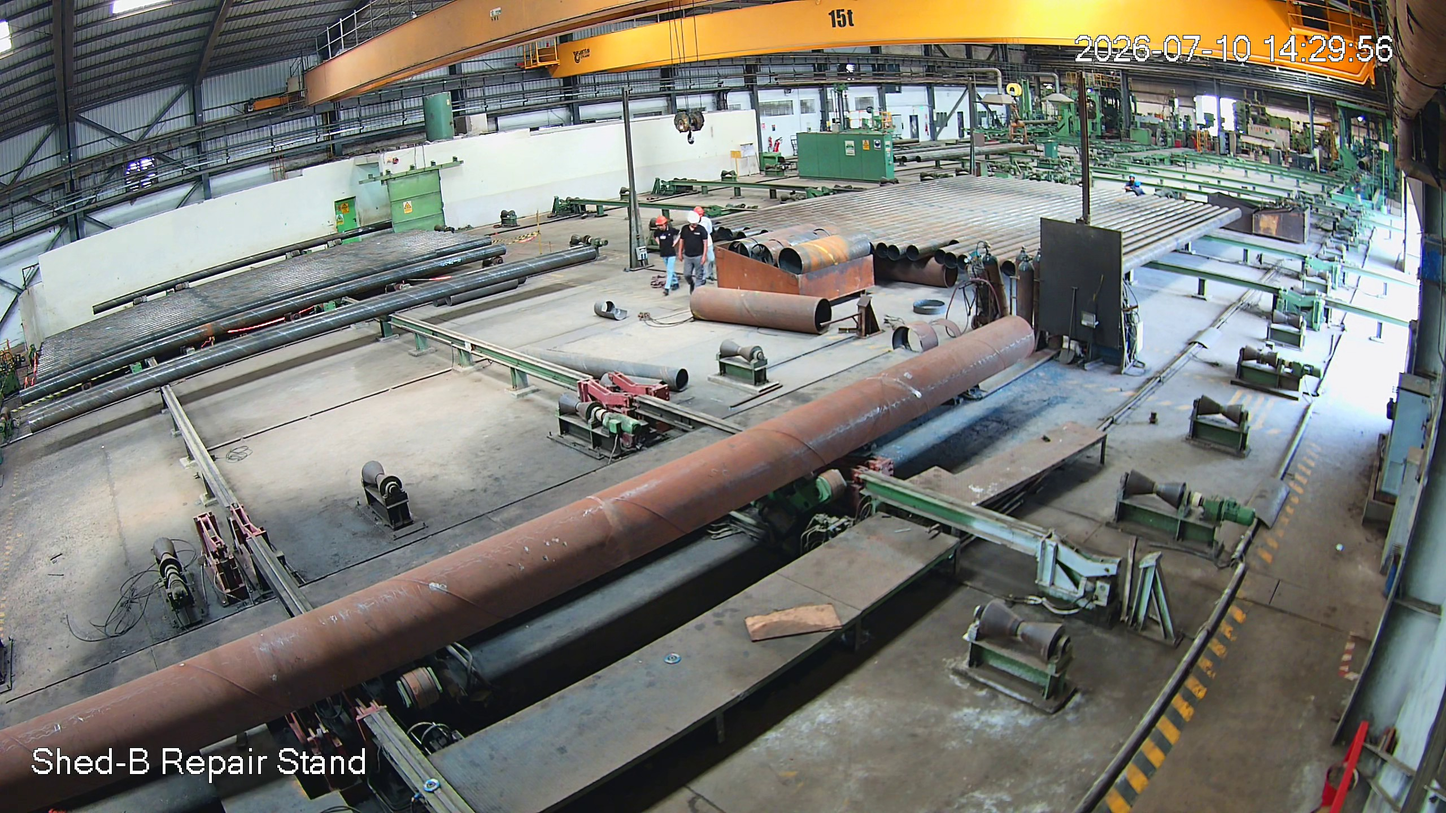Helmet: (651, 213, 673, 235), (684, 211, 703, 234)
Person: (679, 212, 709, 295), (650, 217, 681, 290)
